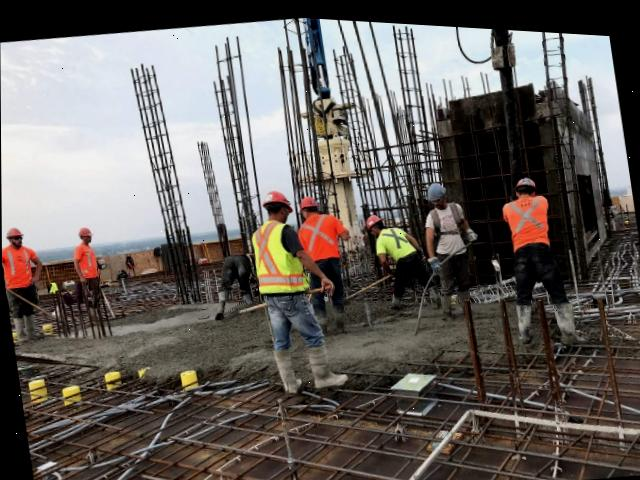helmet: (410, 171, 453, 200), (262, 177, 298, 207), (355, 202, 387, 227), (69, 221, 96, 237), (515, 168, 540, 184), (4, 224, 27, 241), (303, 191, 324, 205)
vest: (244, 212, 310, 296)
